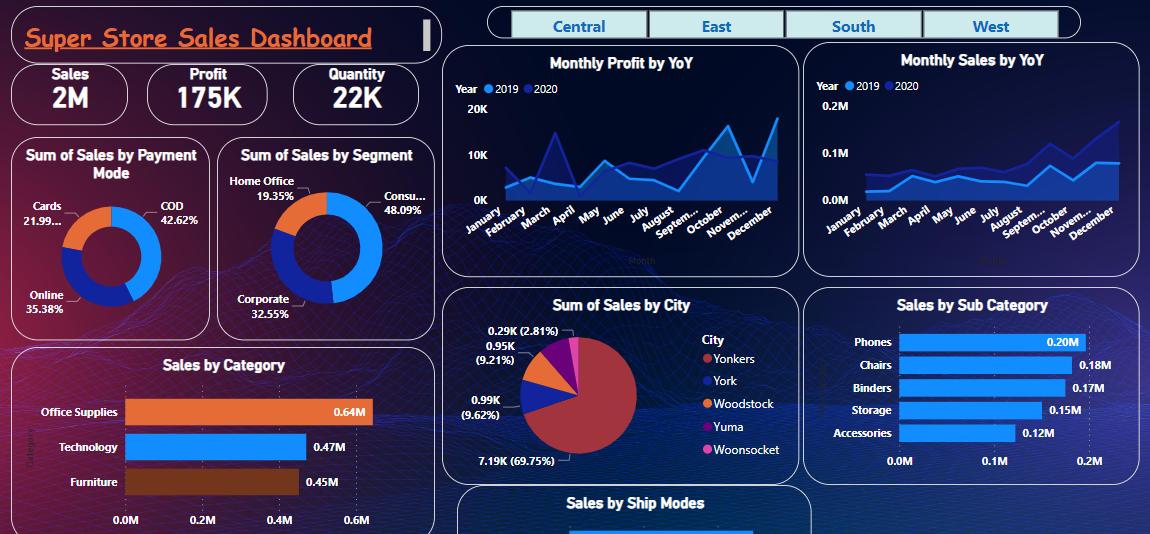

The page's visual inventory and layout, read from the dashboard file:
{"tool":"powerbi","page":{"name":"Page 1","canvas":[1280,720],"ordinal":0},"visuals":[{"type":"clusteredBarChart","title":"Sales by Category","fields":{"Category":["Sheet1 (2).Category"],"Y":["Sum(Sheet1 (2).Sales)"]},"box":[13.3,386.7,453.3,218.9],"z":0},{"type":"clusteredBarChart","title":"Sales by Sub Category","fields":{"Y":["Sum(Sheet1 (2).Sales)"],"Category":["Sheet1 (2).Sub-Category"]},"box":[893.3,320,350,220],"z":1000},{"type":"clusteredBarChart","title":"Sales by Ship Modes","fields":{"Y":["Sum(Sheet1 (2).Sales)"],"Category":["Sheet1 (2).Ship Mode"]},"box":[508.9,540,394.4,180],"z":2000},{"type":"areaChart","title":"Monthly Sales by YoY","fields":{"Category":["Sheet1 (2).Order Date.Variation.Date Hierarchy.Month","Sheet1 (2).Order Date.Variation.Date Hierarchy.Day"],"Y":["Sum(Sheet1 (2).Sales)"],"Series":["Sheet1 (2).Order Date.Variation.Date Hierarchy.Year"]},"box":[893.3,47.8,374.4,261.1],"z":3000},{"type":"areaChart","title":"Monthly Profit by YoY","fields":{"Category":["Sheet1 (2).Order Date.Variation.Date Hierarchy.Month","Sheet1 (2).Order Date.Variation.Date Hierarchy.Day"],"Series":["Sheet1 (2).Order Date.Variation.Date Hierarchy.Year"],"Y":["Sum(Sheet1 (2).Profit)"]},"box":[492.2,51.1,396.7,257.8],"z":4000},{"type":"donutChart","fields":{"Category":["Sheet1 (2).Segment"],"Y":["Sum(Sheet1 (2).Sales)"]},"box":[242.2,153.3,242.2,225.6],"z":4001},{"type":"donutChart","fields":{"Y":["Sum(Sheet1 (2).Sales)"],"Category":["Sheet1 (2).Payment Mode"]},"box":[13.3,153.3,221.1,225.6],"z":4002},{"type":"slicer","fields":{"Values":["Sheet1 (2).Region"]},"box":[542.2,7.8,660,35.6],"z":4003},{"type":"textbox","box":[13.3,7.8,478.9,64.4],"z":4004},{"type":"card","title":"Sales","fields":{"Values":["Sum(Sheet1 (2).Sales)"]},"box":[13.3,72.2,130,67.8],"z":4005},{"type":"card","title":"Quantity","fields":{"Values":["Sum(Sheet1 (2).Quantity)"]},"box":[326.7,72.2,140,67.8],"z":4006},{"type":"card","title":"Profit","fields":{"Values":["Sum(Sheet1 (2).Profit)"]},"box":[164.4,72.2,134.4,67.8],"z":4007},{"type":"pieChart","fields":{"Category":["Sheet1 (2).City"],"Y":["Sum(Sheet1 (2).Sales)"]},"box":[504.4,320,384.4,220],"z":4008}]}

Visuals, with their boxes on the page's 1280x720 design canvas (x1, y1, x2, y2). These are canvas units, not pixel positions in the 1150x534 screenshot, which may show the page scaled, cropped or inside an application window:
"Sales by Category" clusteredBarChart: (x1=13, y1=387, x2=467, y2=606)
"Sales by Sub Category" clusteredBarChart: (x1=893, y1=320, x2=1243, y2=540)
"Sales by Ship Modes" clusteredBarChart: (x1=509, y1=540, x2=903, y2=720)
"Monthly Sales by YoY" areaChart: (x1=893, y1=48, x2=1268, y2=309)
"Monthly Profit by YoY" areaChart: (x1=492, y1=51, x2=889, y2=309)
donutChart - Sheet1 (2).Segment x Sum(Sheet1 (2).Sales): (x1=242, y1=153, x2=484, y2=379)
donutChart - Sum(Sheet1 (2).Sales) x Sheet1 (2).Payment Mode: (x1=13, y1=153, x2=234, y2=379)
slicer - Sheet1 (2).Region: (x1=542, y1=8, x2=1202, y2=43)
textbox: (x1=13, y1=8, x2=492, y2=72)
"Sales" card: (x1=13, y1=72, x2=143, y2=140)
"Quantity" card: (x1=327, y1=72, x2=467, y2=140)
"Profit" card: (x1=164, y1=72, x2=299, y2=140)
pieChart - Sheet1 (2).City x Sum(Sheet1 (2).Sales): (x1=504, y1=320, x2=889, y2=540)
